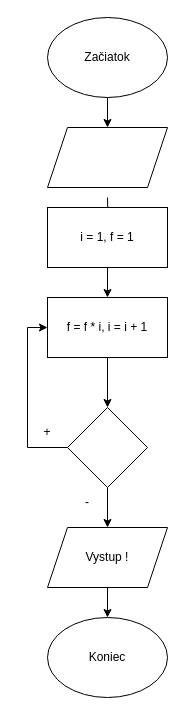
The diagram is 185 pixels wide and 715 high, and some of its shapes have lost their labels. Here are the shapes that lost their labels. From the top down, the centre of each, then its label:
(107,157): Vstup n
(107,447): i < n
